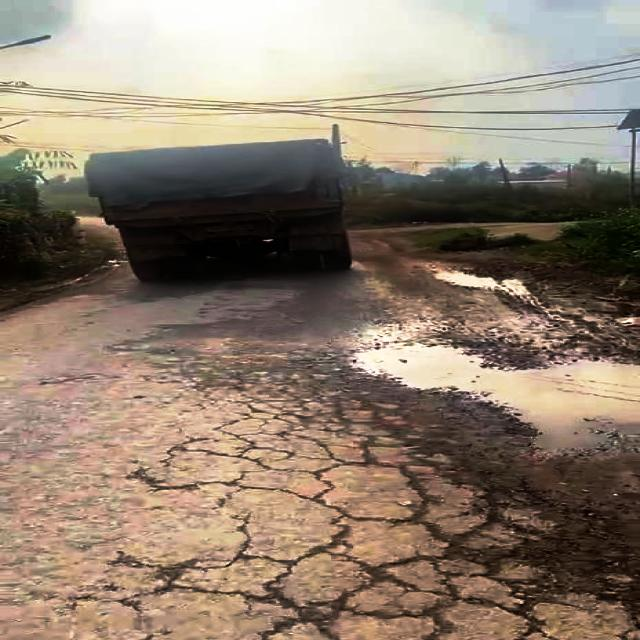pothole: (338, 337, 640, 456)
